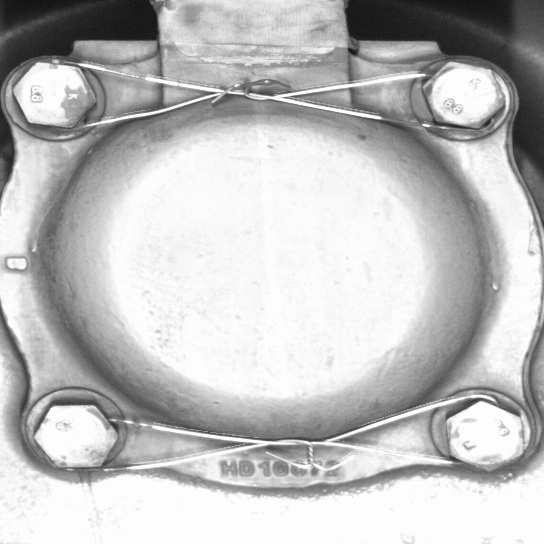IronWire: (5, 54, 511, 138), (27, 395, 532, 479)
Screw: (411, 53, 511, 136), (27, 395, 125, 475), (438, 395, 531, 479), (5, 54, 101, 134)
